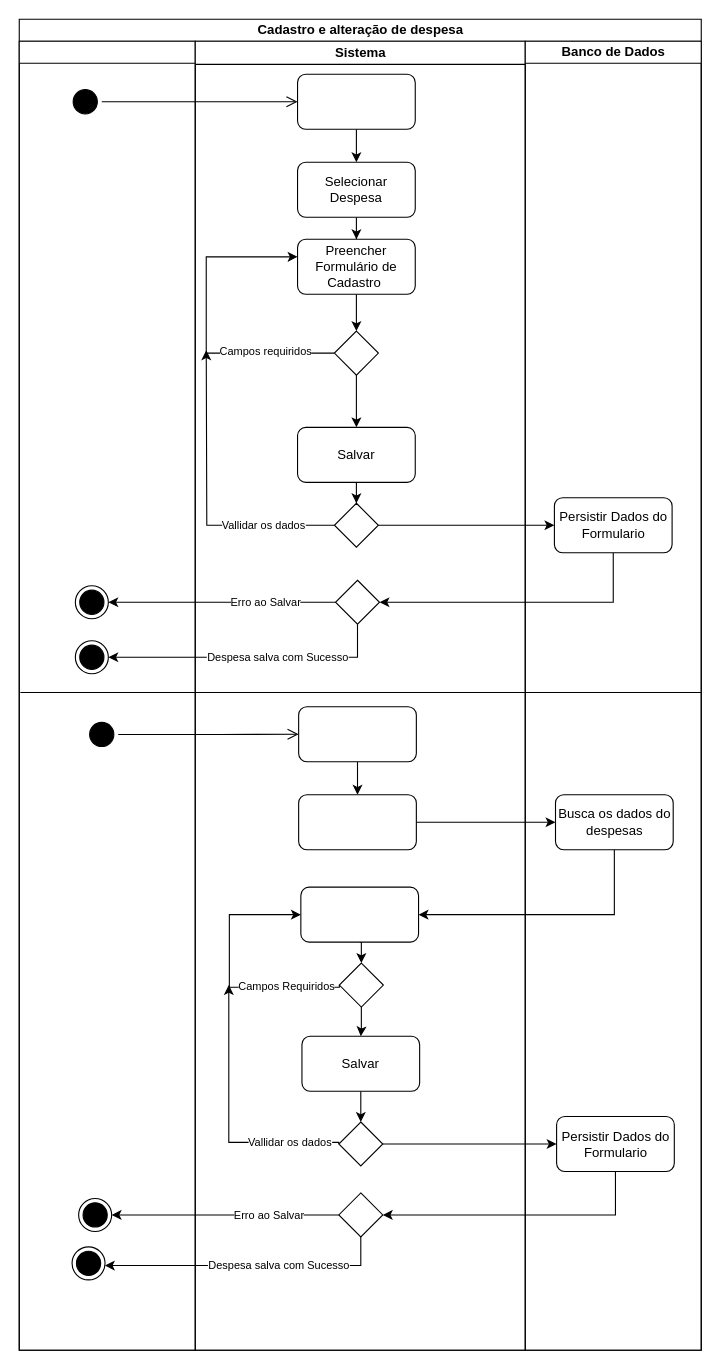
The diagram is 722 pixels wide and 1370 high, and some of its shapes have lost their labels. Each missing label, with the box of its shape:
Administrador: (18, 40, 195, 1350)
Clicar em Listar: (298, 706, 416, 762)
Editar os dados: (300, 886, 419, 942)
Seleciona despesa: (298, 794, 416, 850)
Selecionar Menu lateral Gerenciar: (296, 73, 415, 129)
